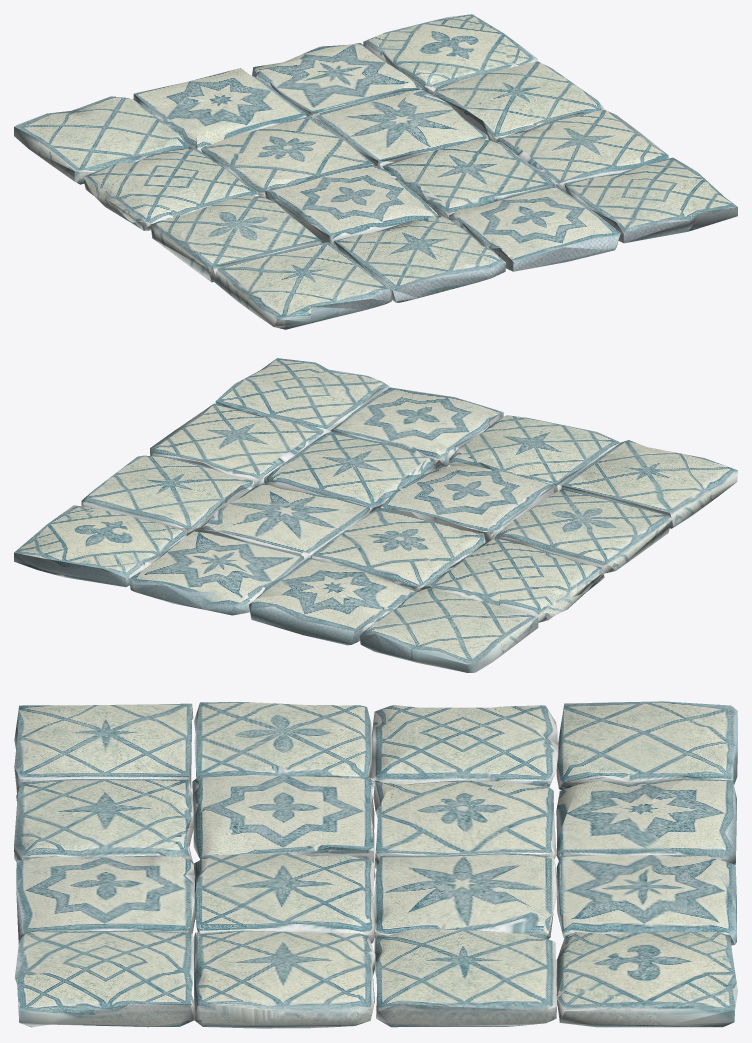
File: blk_city_floor.glb
3 renders of one model, top to bottom at view 1: azimuth 30°, elevation 25°; view 2: azimuth 150°, elevation 25°; view 3: azimuth 270°, elevation 25°, orthographic. The views are drawn at different scales.
Size of the model in its own units: 0.957 by 0.0474 by 0.9521.
Materials: 1 (1 with a texture image).
